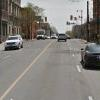Car: (75, 39, 100, 84)
